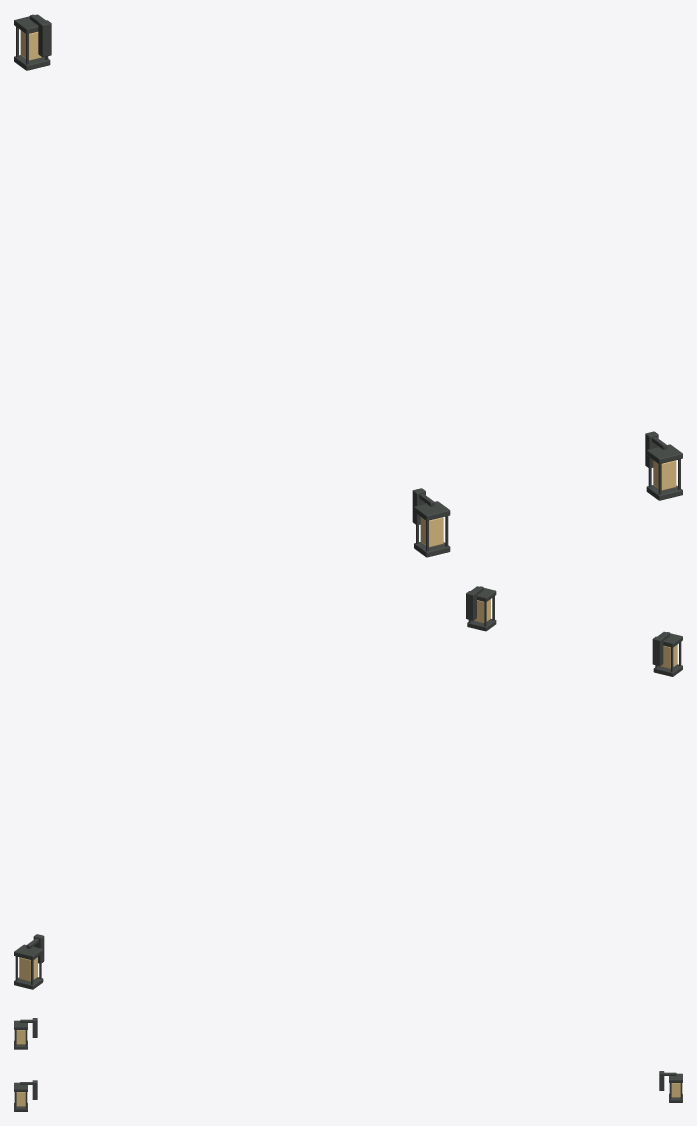
The model's file is SM_PlayerHouse_Lighting.fbx.
3 views of the same model, one above another, from view 1: azimuth 30°, elevation 25°; view 2: azimuth 150°, elevation 25°; view 3: azimuth 270°, elevation 25° (orthographic). The views are drawn at different scales.
Visible parts, largest first — view 1: SM_PlayerHouse_Lighting; view 2: SM_PlayerHouse_Lighting; view 3: SM_PlayerHouse_Lighting.
Boxes of the visible parts, bbox=[...] form: SM_PlayerHouse_Lighting: bbox=[14, 14, 682, 557]; SM_PlayerHouse_Lighting: bbox=[14, 586, 682, 989]; SM_PlayerHouse_Lighting: bbox=[14, 1018, 682, 1111].
Bounding box in the file's own units: 265 × 1093 × 49.75.
